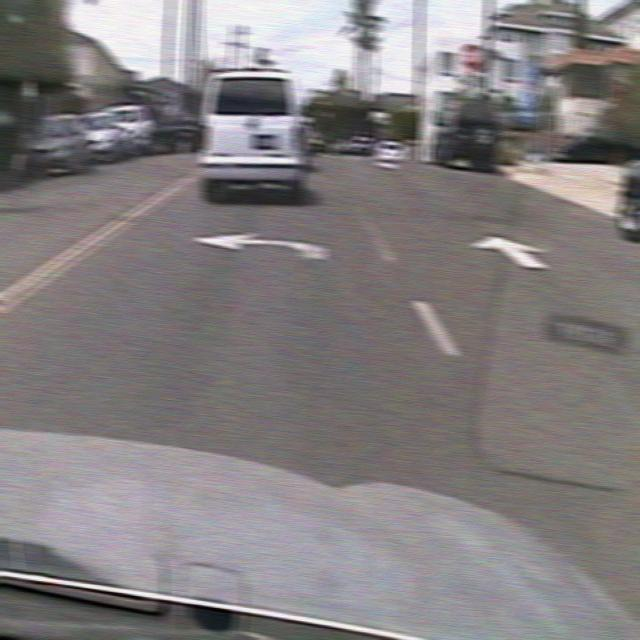stop_sign: (460, 41, 484, 72)
